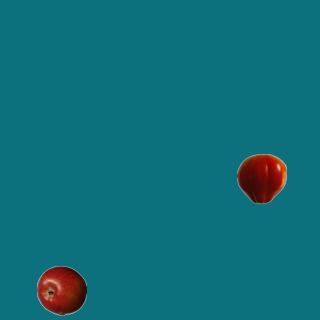Apple Braeburn: (36, 265, 86, 315)
Tomato 1: (236, 153, 286, 203)
